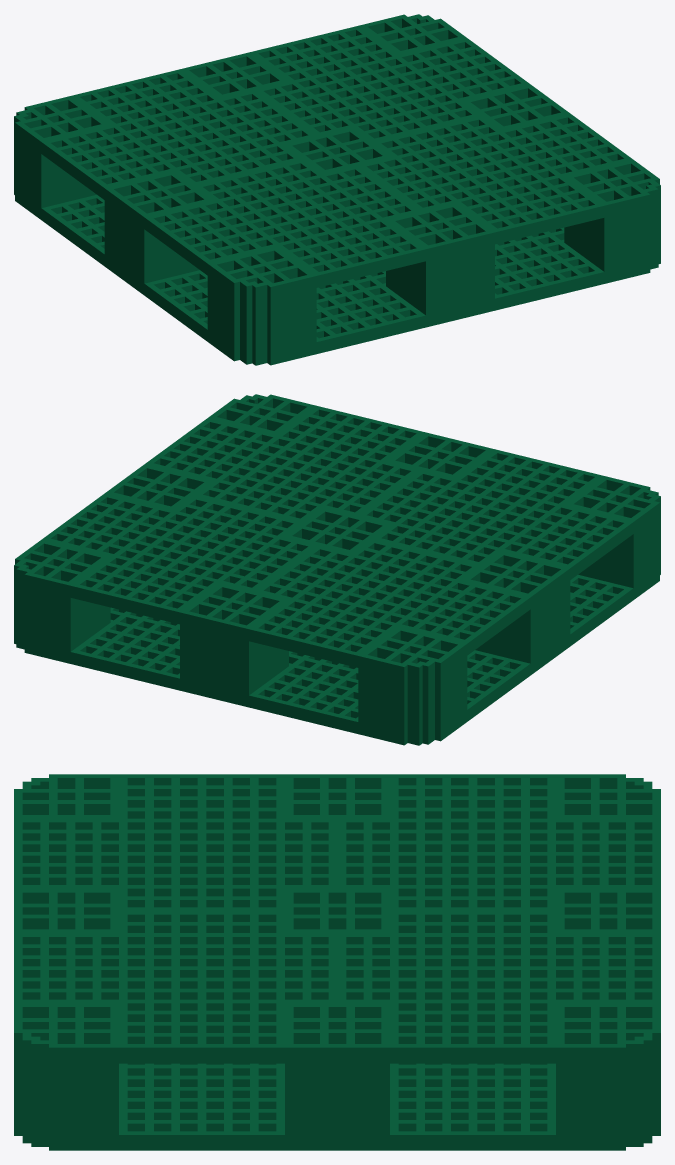
Rendered from Pallet1.fbx.
3 renders of one model, top to bottom at view 1: azimuth 30°, elevation 25°; view 2: azimuth 150°, elevation 25°; view 3: azimuth 270°, elevation 25°, orthographic. The views are drawn at different scales.
Parts seen in each view (by area): view 1: Pallet1; view 2: Pallet1; view 3: Pallet1.
Boxes of the visible parts, x1=… form: Pallet1: x1=14, y1=14, x2=660, y2=365; Pallet1: x1=14, y1=394, x2=660, y2=745; Pallet1: x1=14, y1=774, x2=660, y2=1150.
Size of the model in its own units: 7.4 by 1.3 by 7.4.
